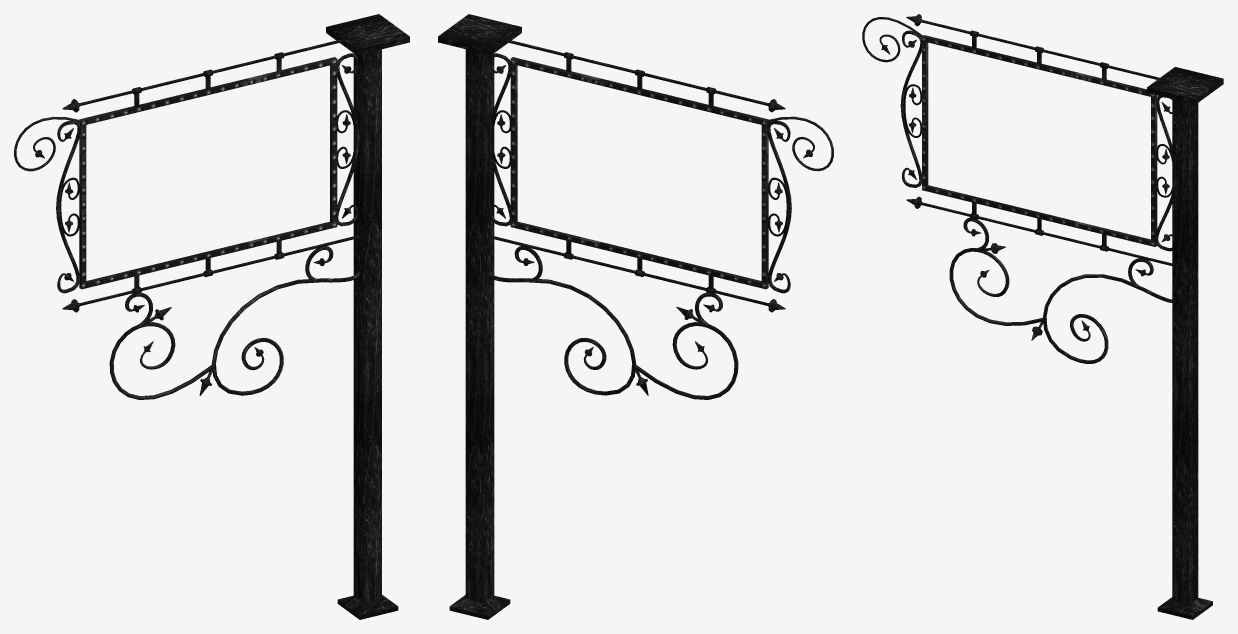
File: olive.obj
The picture shows the model from 3 angles, left to right: view 1: azimuth 30°, elevation 25°; view 2: azimuth 150°, elevation 25°; view 3: azimuth 330°, elevation 25°; orthographic projection. The views are drawn at different scales.
Visible parts, largest first — view 1: sign_main_CUCourbeBézier.005, frame_Cube.009; view 2: sign_main_CUCourbeBézier.005, frame_Cube.009; view 3: sign_main_CUCourbeBézier.005, frame_Cube.009.
Part boxes in pixels (<box>): sign_main_CUCourbeBézier.005: <box>14,14,409,619</box>; frame_Cube.009: <box>79,57,337,289</box>; sign_main_CUCourbeBézier.005: <box>438,14,833,619</box>; frame_Cube.009: <box>510,57,768,289</box>; sign_main_CUCourbeBézier.005: <box>862,14,1223,619</box>; frame_Cube.009: <box>922,35,1157,246</box>.
Size of the model in its own units: 2.03 by 2.94 by 0.2834.
